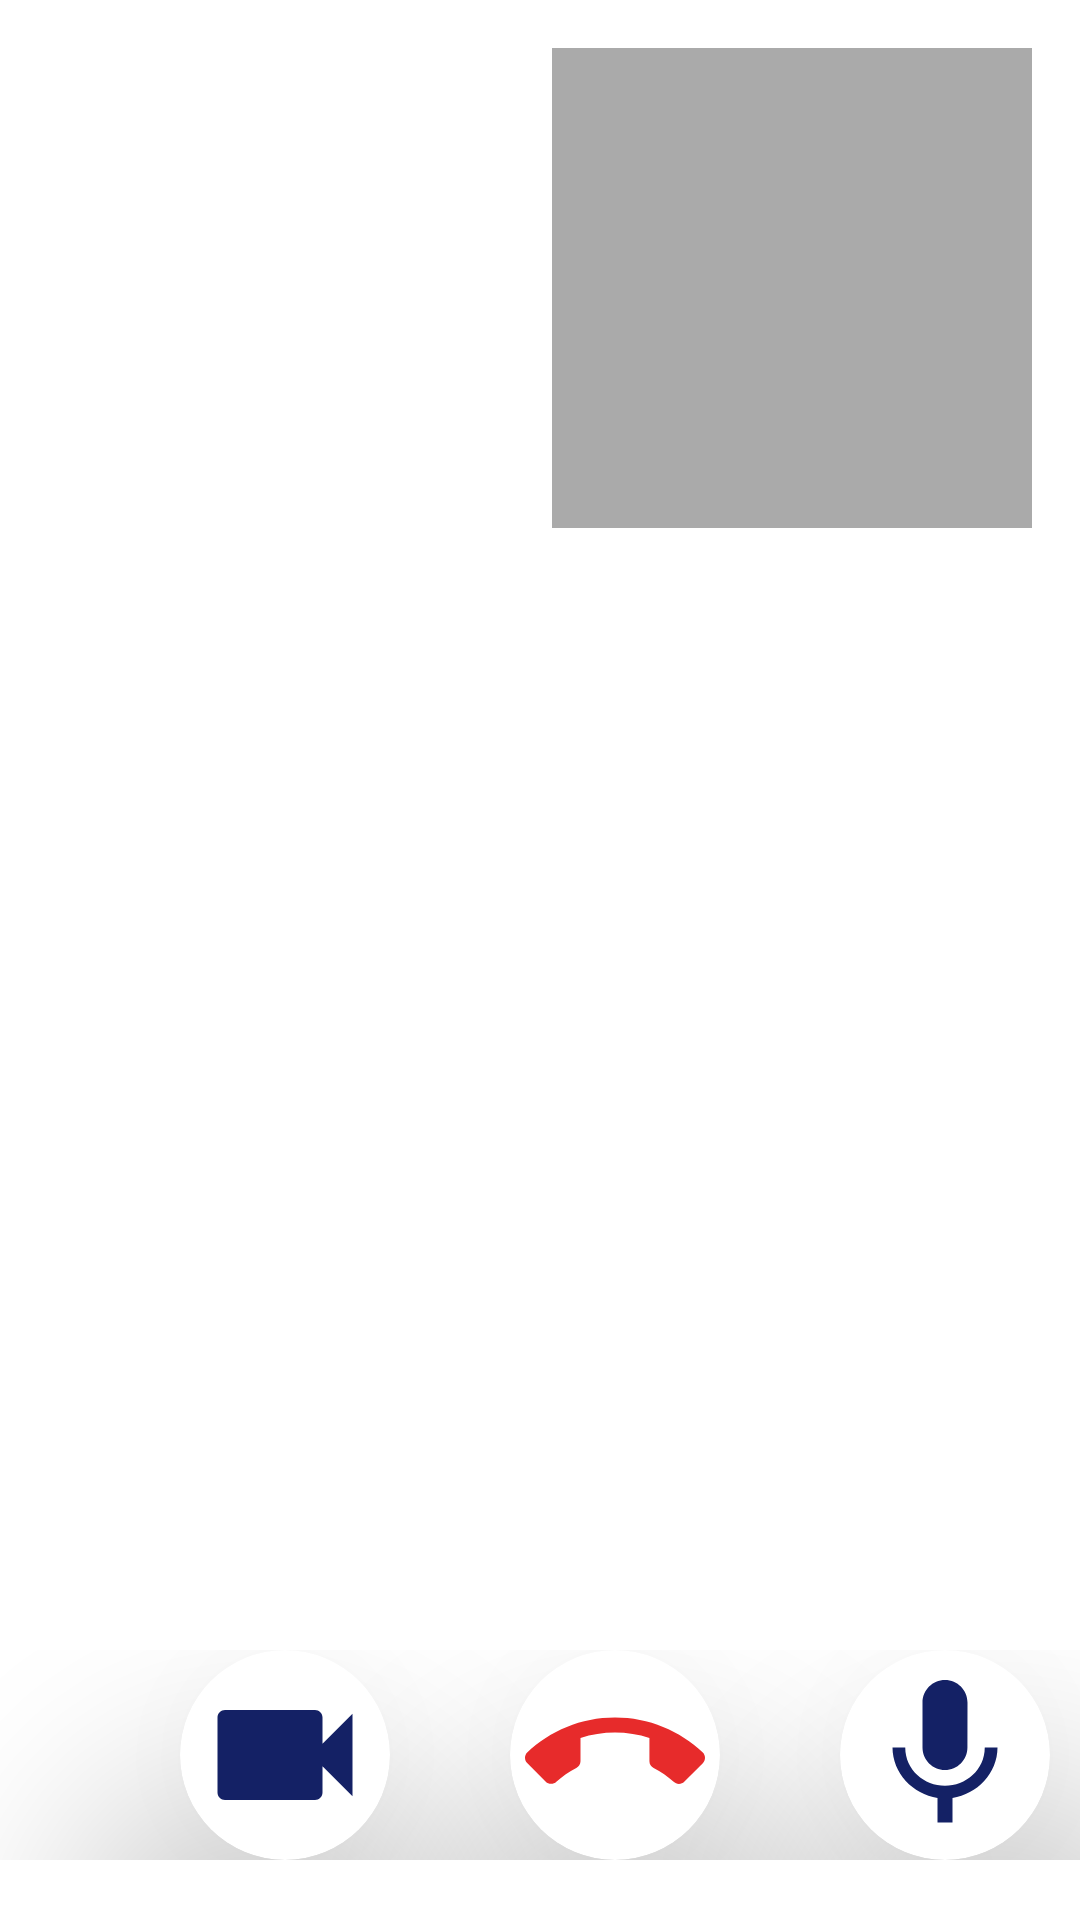

Point at icon controls on the screen. Image size 1080w x 1920h, points as (x=x, y=y).
call end: (x=615, y=1750)
mic: (x=945, y=1751)
video call: (x=285, y=1755)
